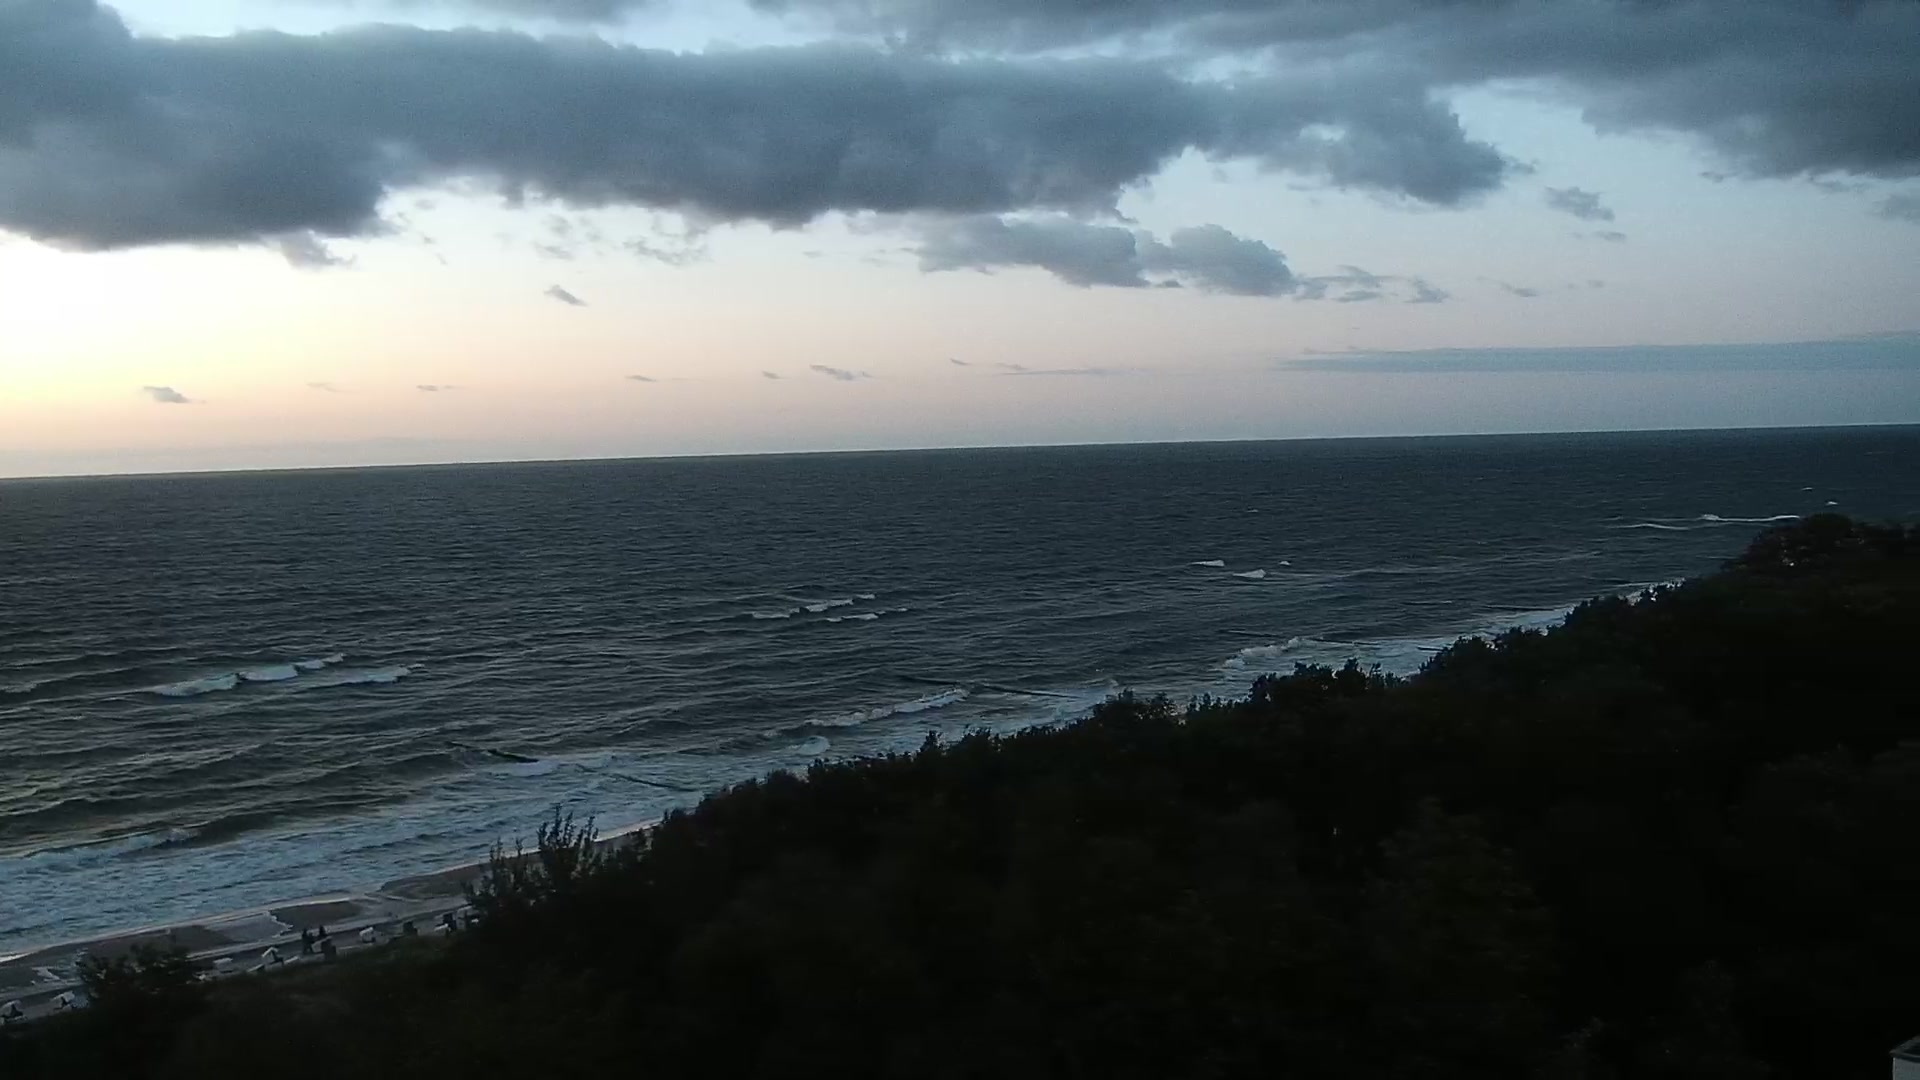human: (301, 926, 314, 953), (306, 930, 317, 953), (317, 924, 327, 939)
